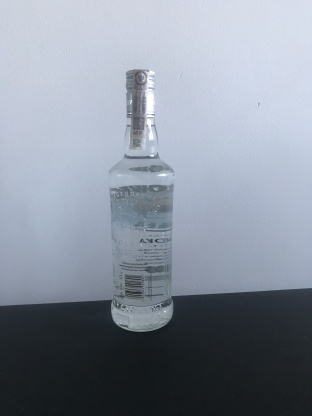nakretka: (123, 64, 157, 120)
